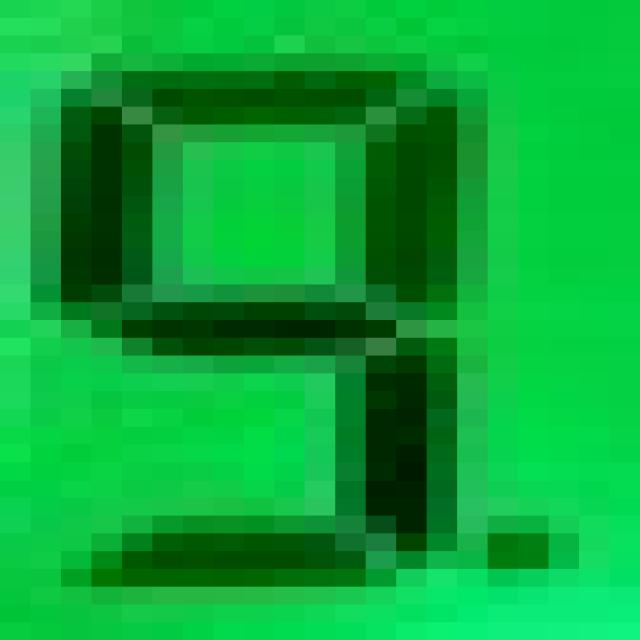.: (472, 510, 592, 589)
9: (30, 45, 488, 631)
